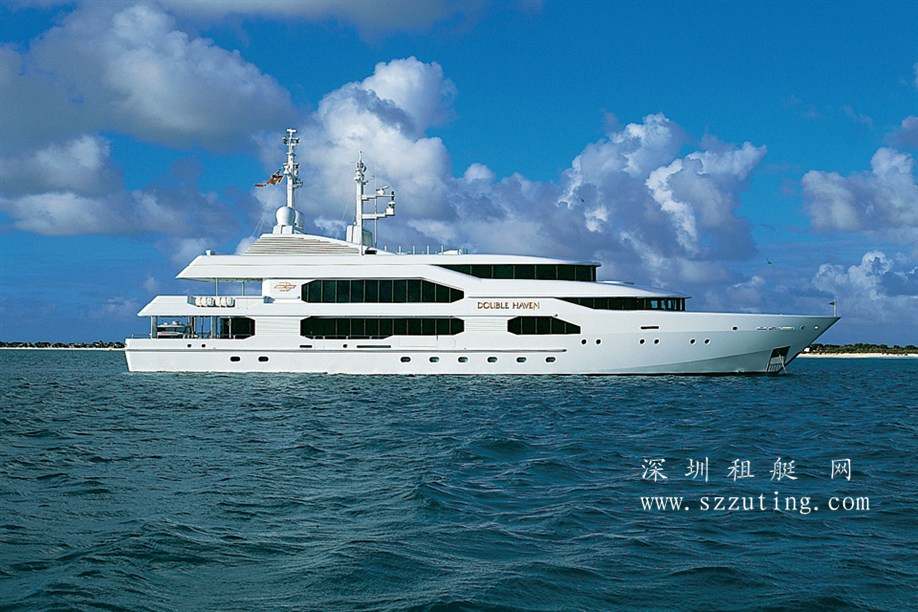yacht: (117, 129, 858, 376)
